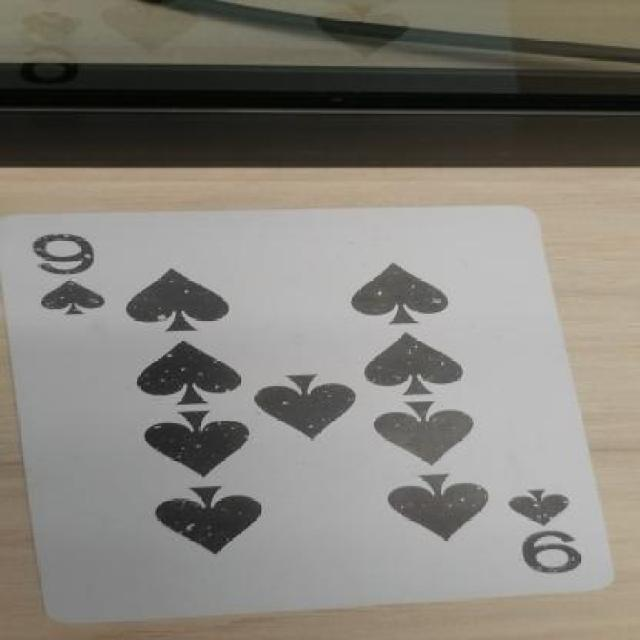9S: (474, 477, 606, 588), (25, 226, 113, 332)
